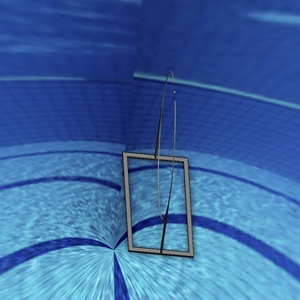circle: (120, 66, 194, 258)
